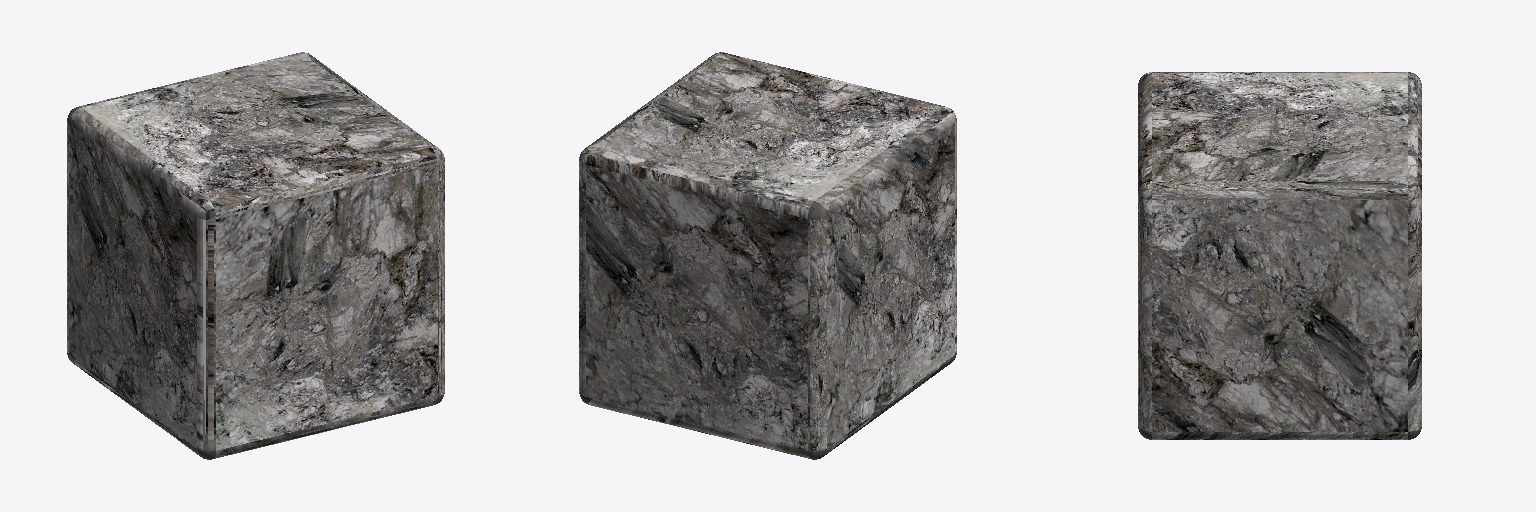
3 renders of one model, left to right at view 1: azimuth 30°, elevation 25°; view 2: azimuth 150°, elevation 25°; view 3: azimuth 270°, elevation 25°, orthographic.
Visible parts, largest first — view 1: Cube; view 2: Cube; view 3: Cube.
Boxes of the visible parts, box(x1,y1,x2,y2) form: Cube: box(67, 52, 444, 459); Cube: box(579, 52, 956, 459); Cube: box(1138, 72, 1421, 439).
Bounding box in the file's own units: 2 × 2 × 2.
Materials: 1 (1 with a texture image).